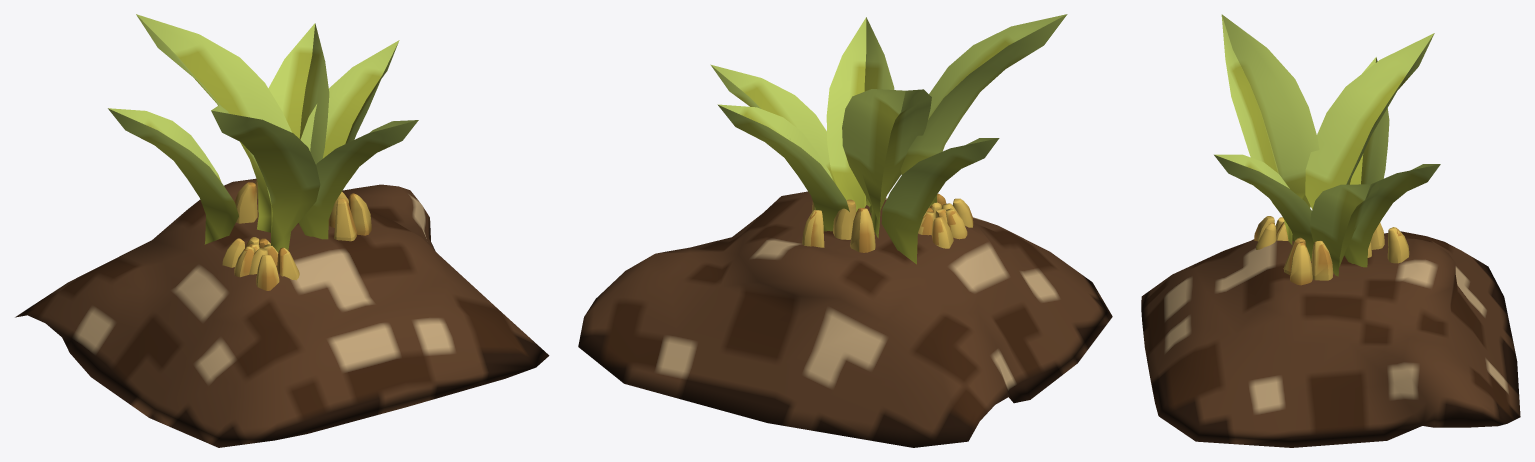
Rendered from turmericStage1.fbx.
The picture shows the model from 3 angles, left to right: view 1: azimuth 30°, elevation 25°; view 2: azimuth 150°, elevation 25°; view 3: azimuth 270°, elevation 25°; orthographic projection. The views are drawn at different scales.
Visible parts, largest first — view 1: pPlane24; view 2: pPlane24; view 3: pPlane24.
Boxes of the visible parts, x1,y1,x2,y2 form: pPlane24: (15, 14, 549, 447); pPlane24: (578, 14, 1112, 447); pPlane24: (1141, 14, 1520, 447).
Bounding box in the file's own units: 15.56 × 12.24 × 14.62.
Materials: 1 (1 with a texture image).
